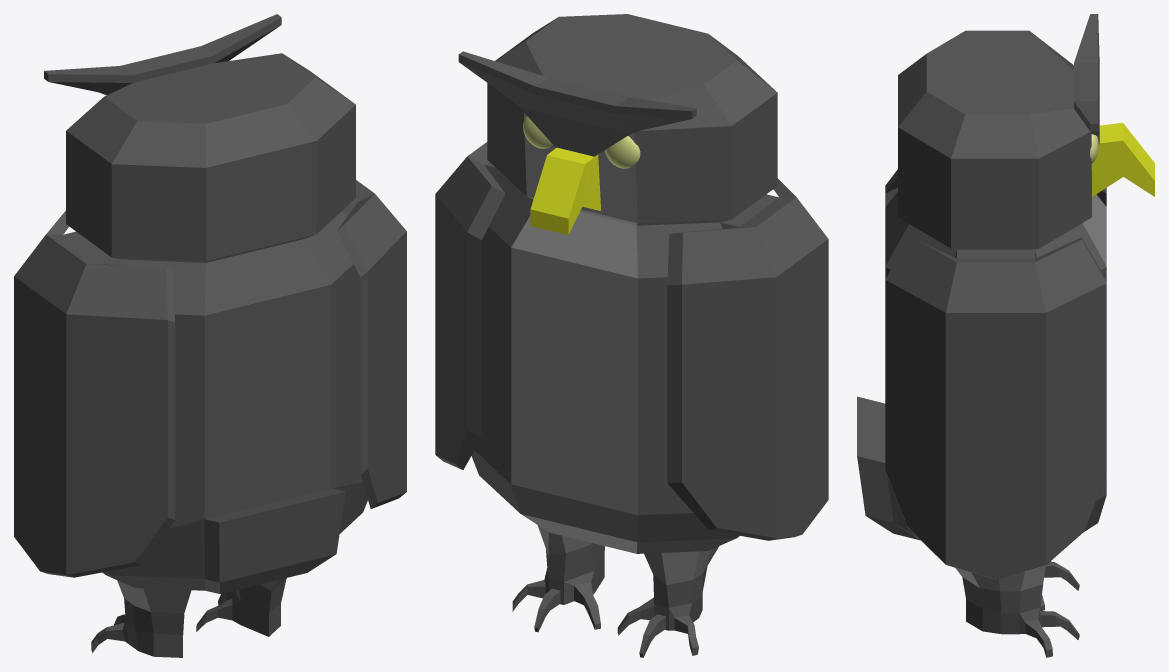
File: art3.fbx
3 views of the same model, side by side, from view 1: azimuth 30°, elevation 25°; view 2: azimuth 150°, elevation 25°; view 3: azimuth 270°, elevation 25° (orthographic). The views are drawn at different scales.
Parts seen in each view (by area): view 1: Cube; view 2: Cube, ทรงกลม; view 3: Cube.
Part boxes in pixels (box(x1,y1,x2,y2)): Cube: box(14, 14, 406, 657); Cube: box(435, 14, 828, 657); ทรงกลม: box(604, 136, 640, 168); Cube: box(857, 14, 1154, 657).
Bounding box in the file's own units: 244 × 390 × 192.
